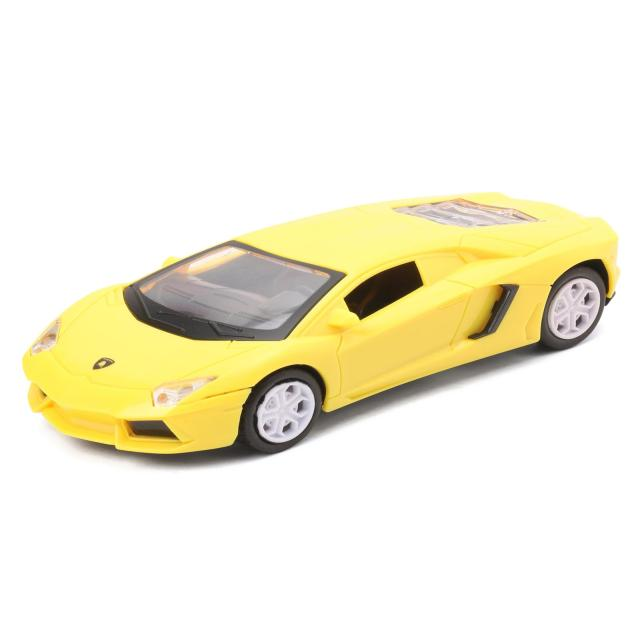Car: (22, 190, 620, 456)
